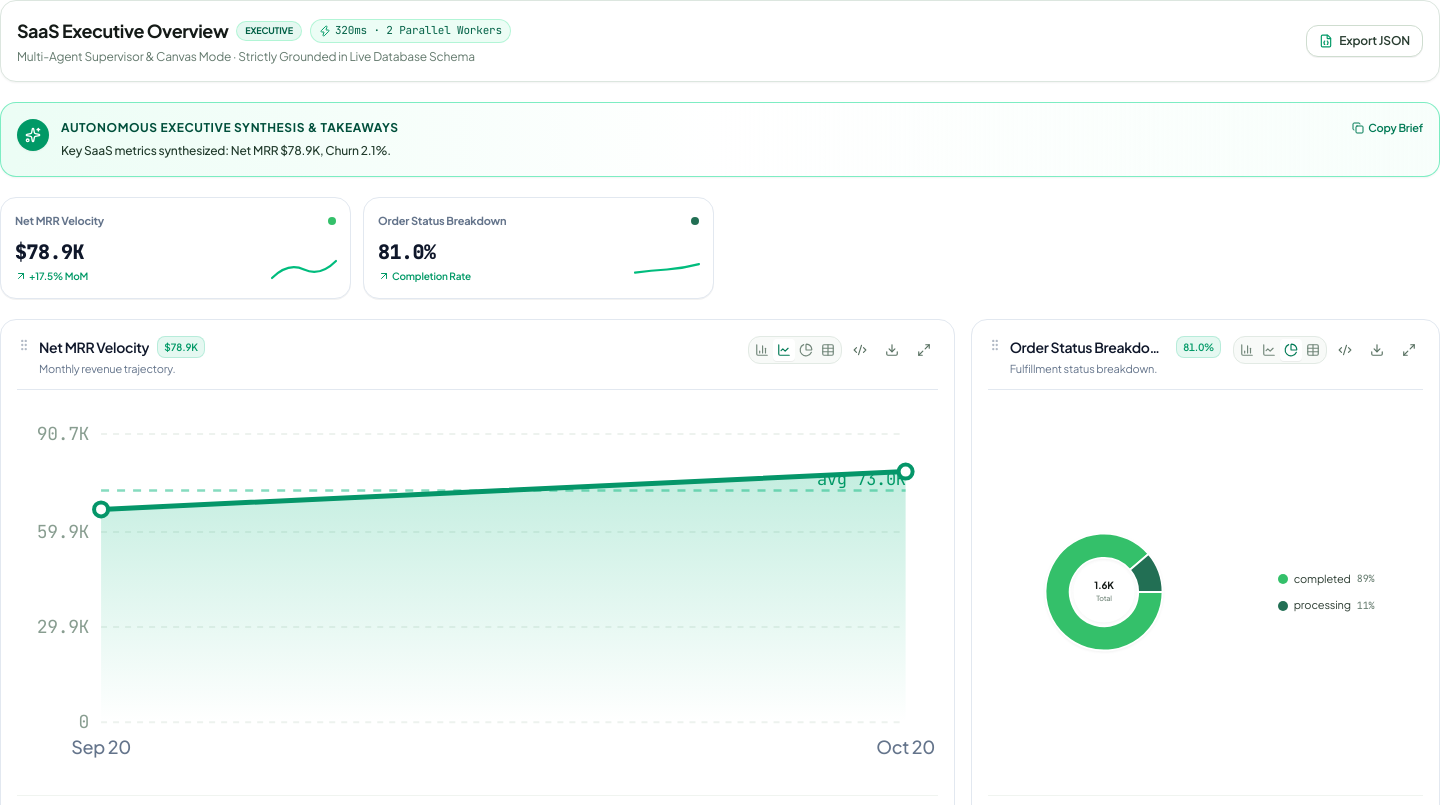
DashboardCanvas Component › renders widget titles and toggles SQL viewer
The width and height of the screenshot is (1440, 805).
// Click first toggle
Click the 1st button titled "View SQL query" at (860, 350), box [846,336,874,364]
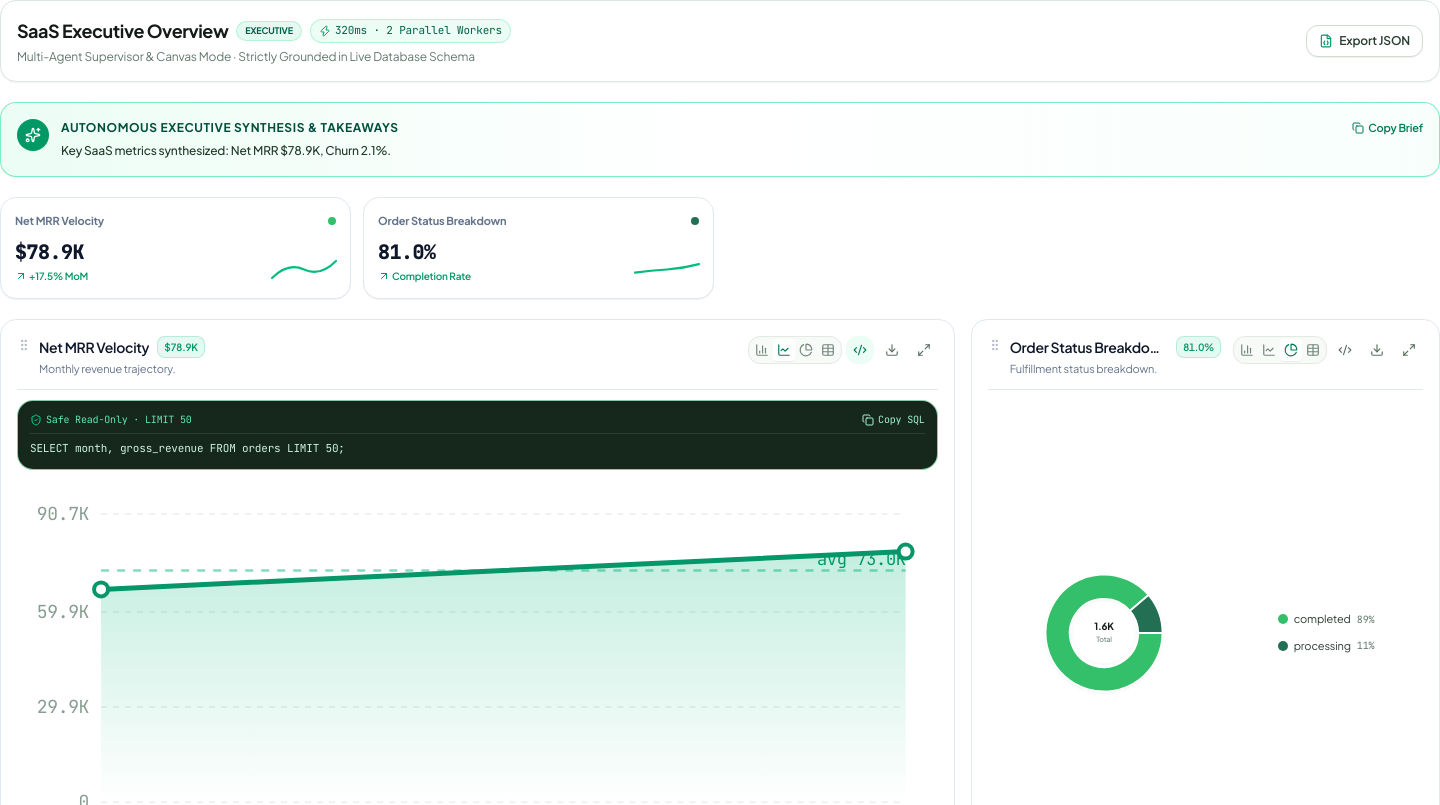
Expected: the text "SELECT month, gross_revenue FROM orders LIMIT 50;" is shown, [30,441,345,455]
